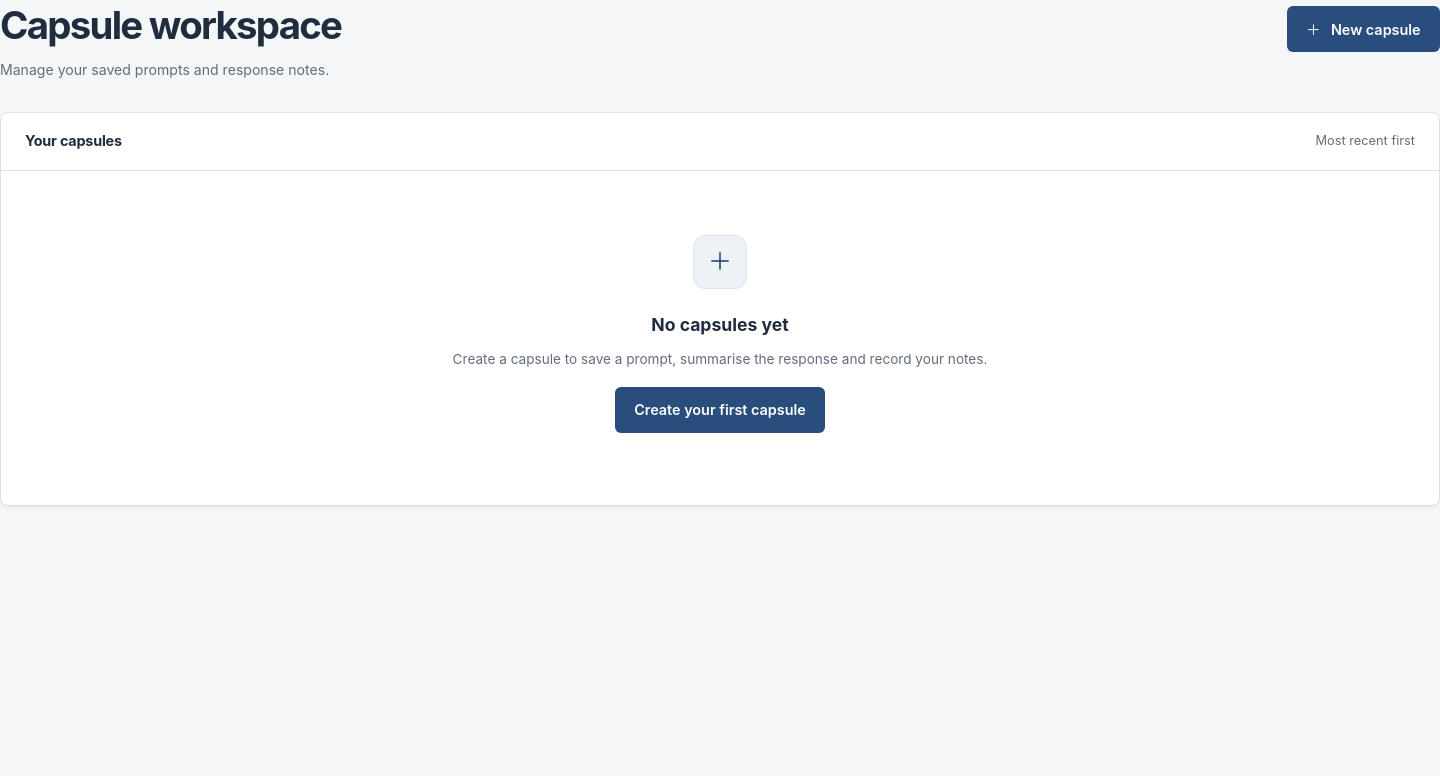
Test: capsule workspace › creates a capsule, prevents duplicate saving and displays the saved record
Later steps or results of the test are not shown.
Click the button "Create your first capsule": (720,410) [615,387,825,433]
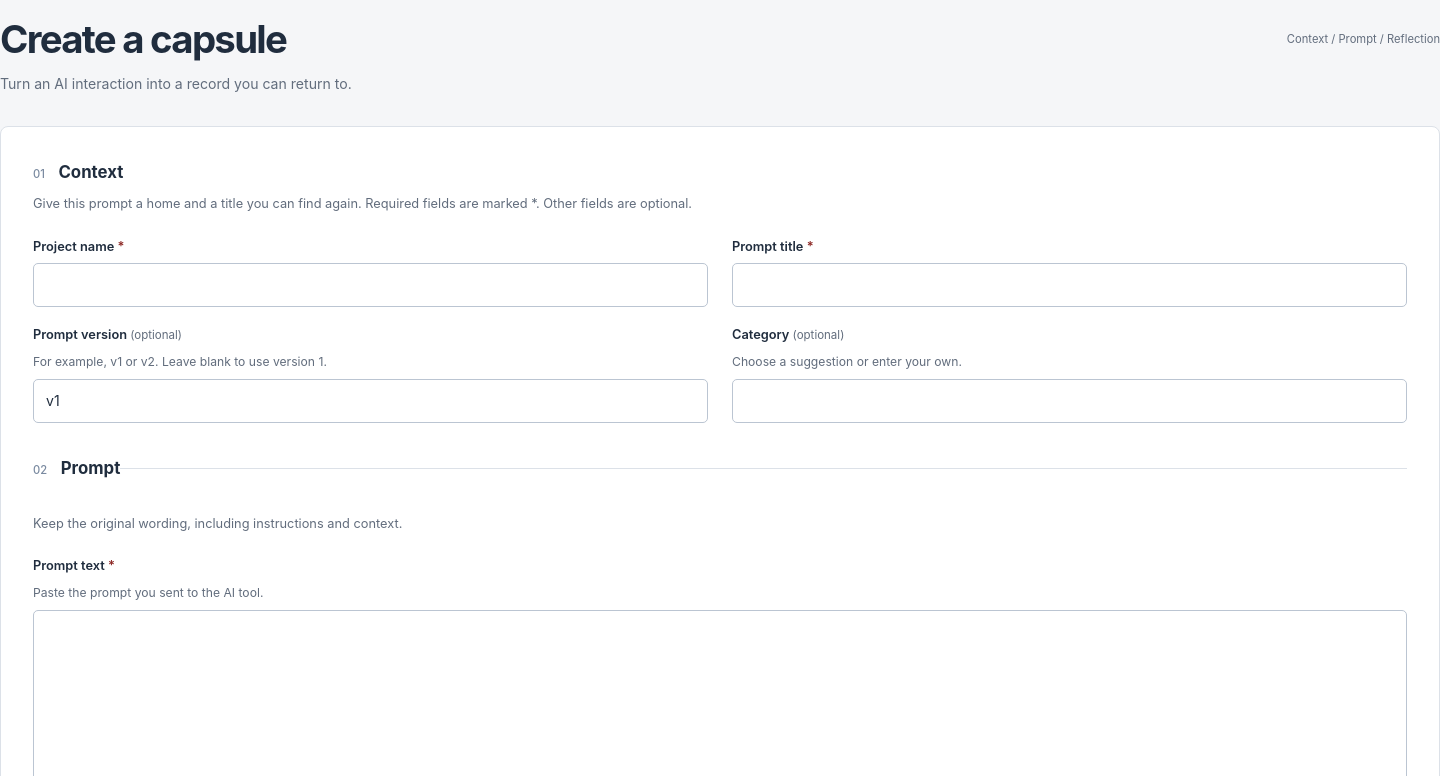
In the field labelled "Project name *": (370,285) [33,263,708,307], type "Fictional Coastal Library"
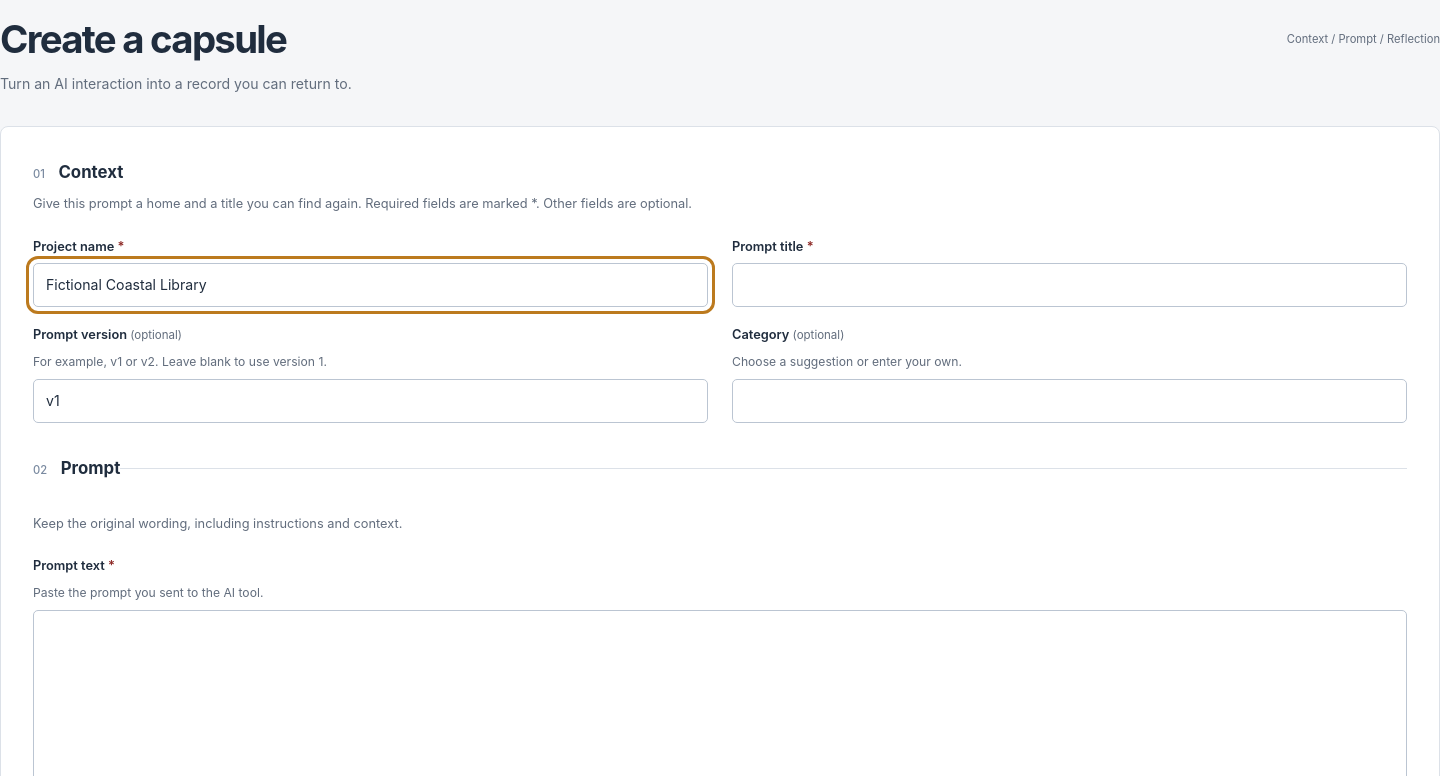
In the field labelled "Prompt title *": (1070,285) [732,263,1407,307], type "Draft a reading guide"
(page scrolled)
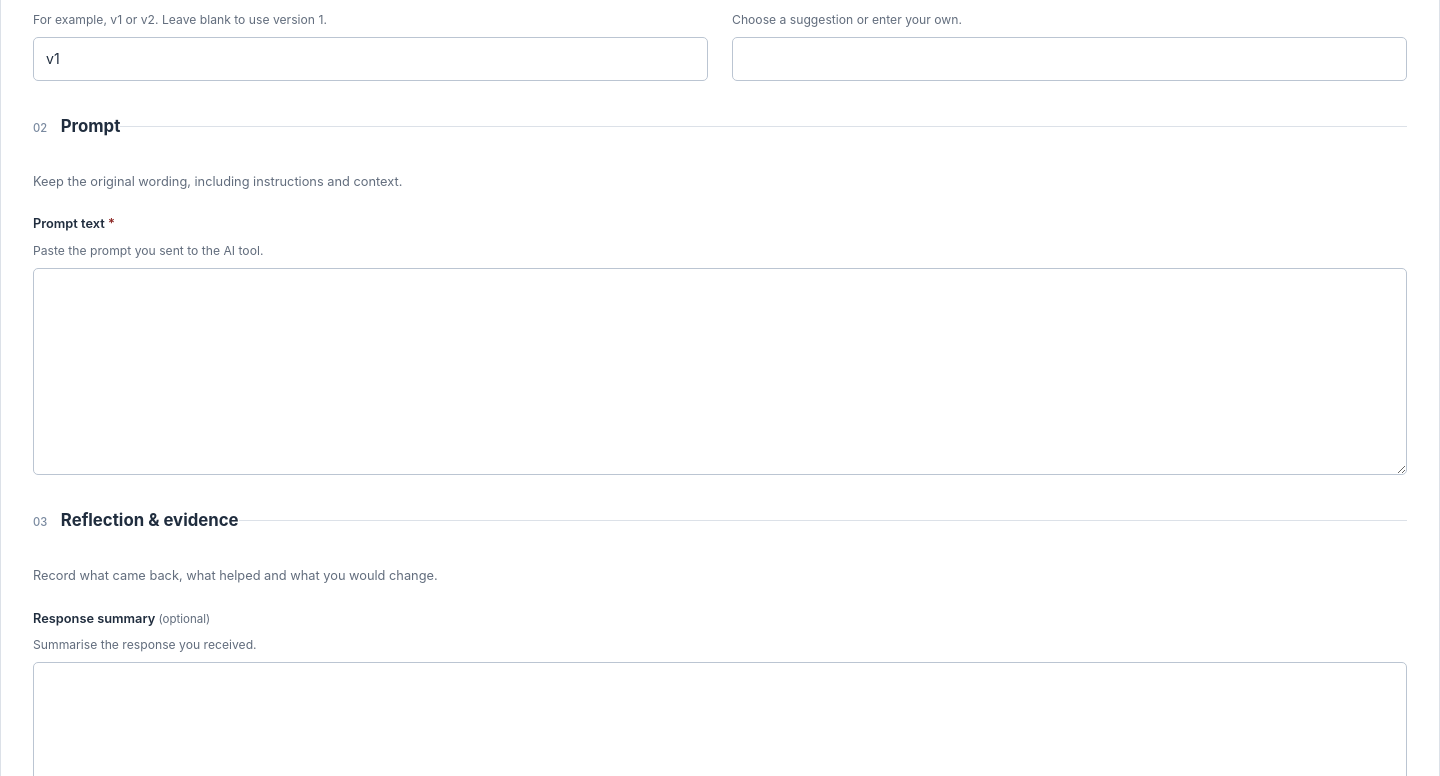
In the text box labelled "Prompt text *": (720,371) [33,268,1407,475], type "Suggest a reading guide for a fictional book club."
(page scrolled)
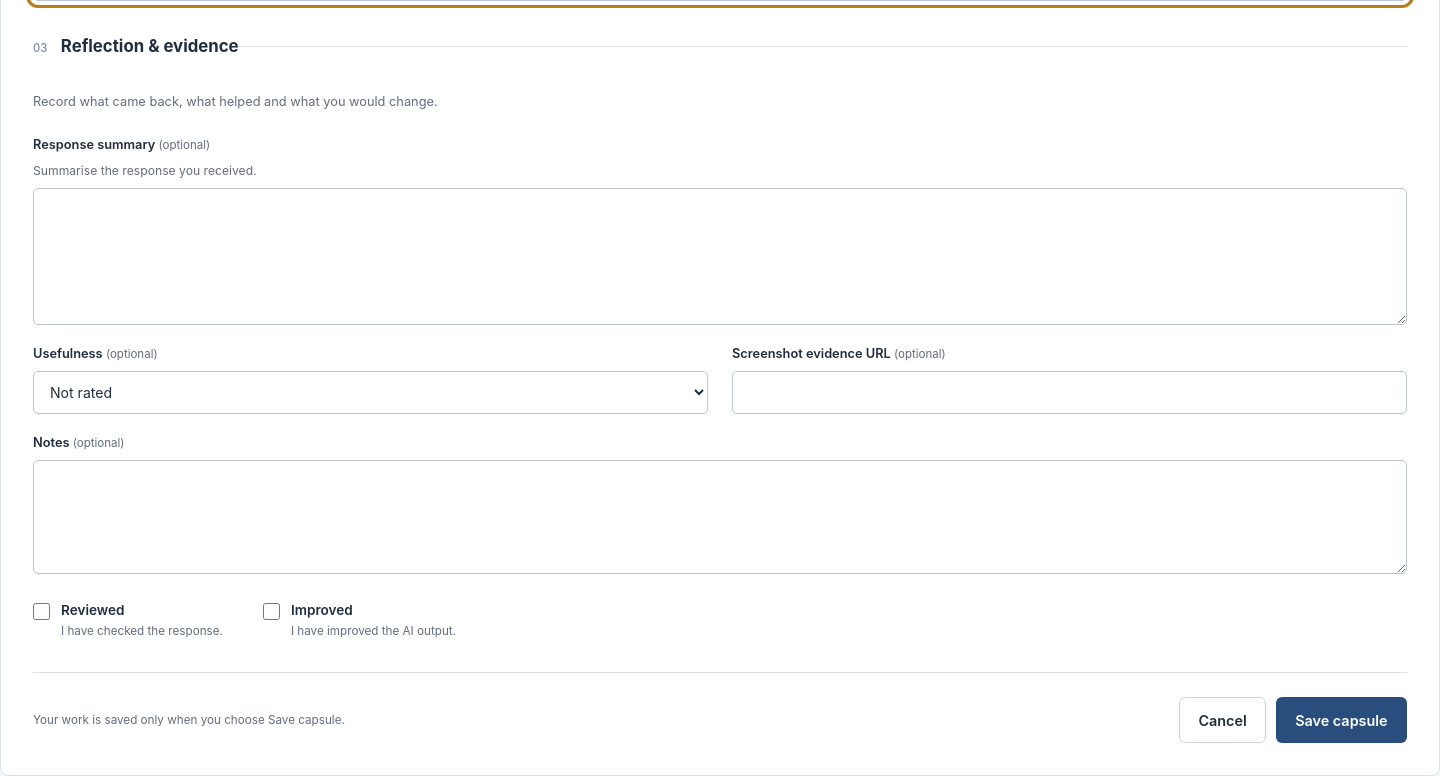
Click the button "Save capsule": (1341,720) [1276,697,1407,743]
(page scrolled)
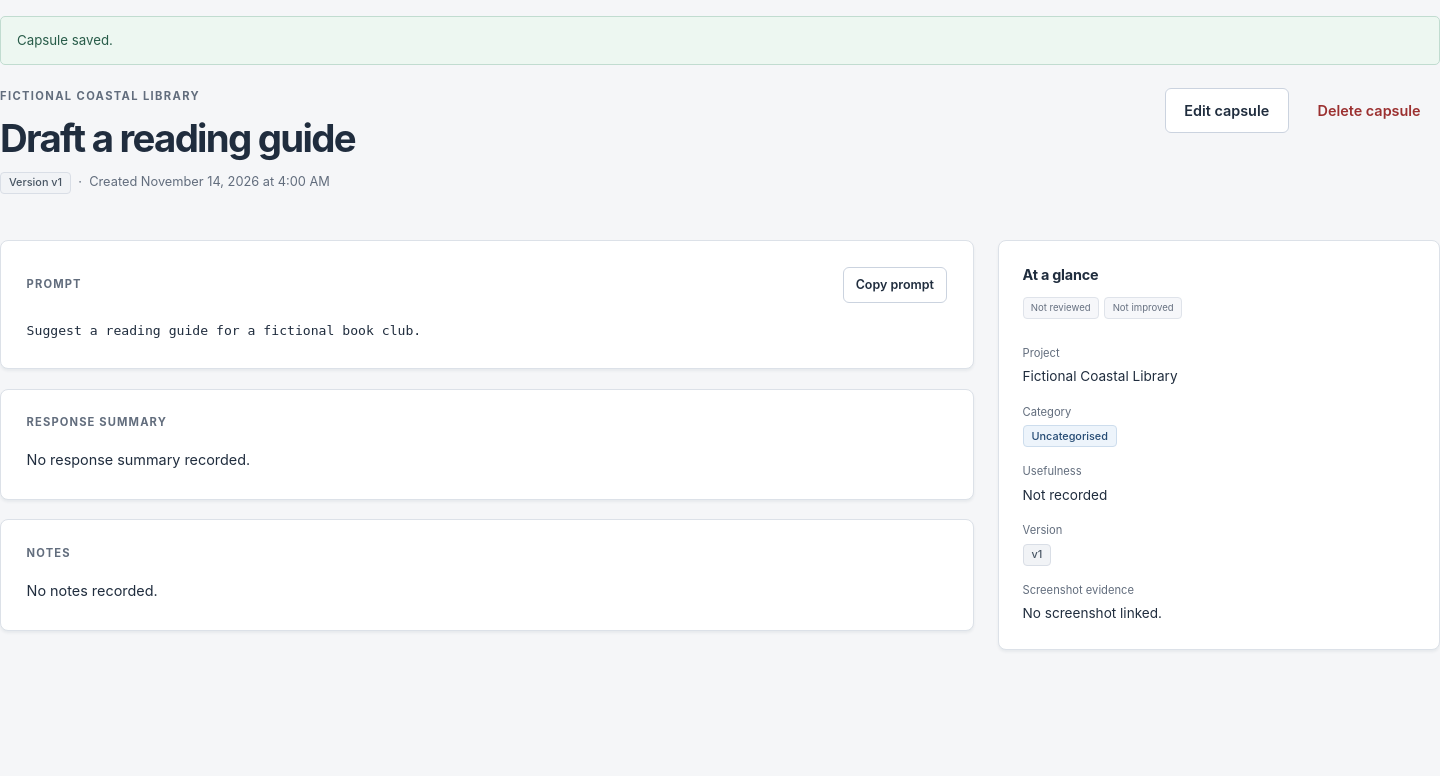
Check: the heading "Draft a reading guide" is shown, box [0,115,355,161]
Check: the text "Capsule saved." is shown, box [0,16,1439,65]
